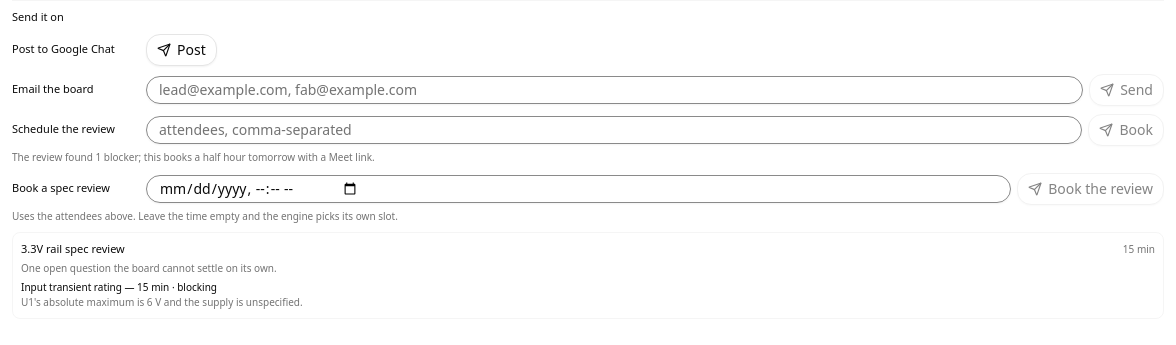
Test case: DeliverPanel spec review time › shows the engine's refusal of a bad time in the row, verbatim
Expected: the button with test id "deliver-chat" is enabled, [146, 34, 217, 66]
Step 1. Type "lead@example.com" into the field with test id "deliver-attendees" → (614,130), box [146, 116, 1082, 144]
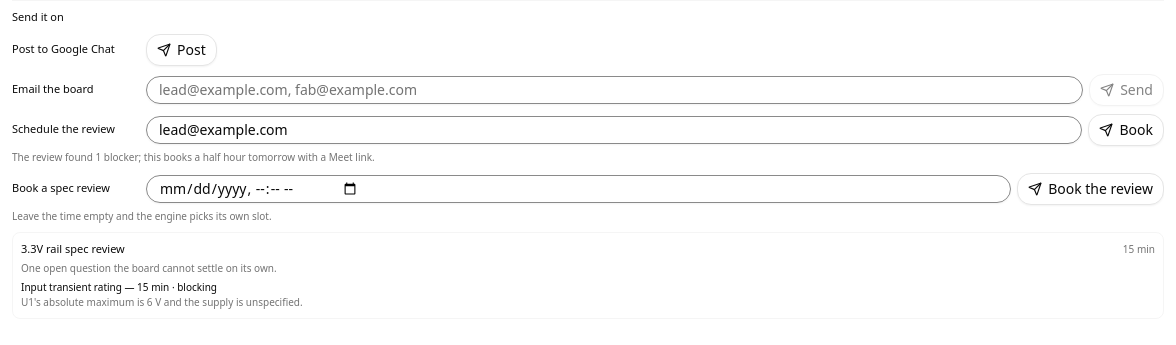
Step 2. Type "2020-01-01T09:00" into the field with test id "deliver-spec-review-when" → (579,188), box [146, 174, 1011, 202]
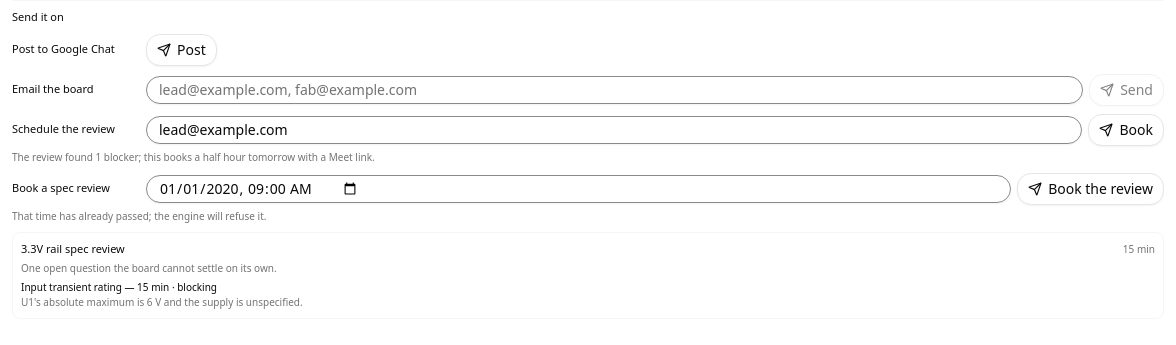
Now the button with test id "deliver-spec-review" is enabled
Now the text "That time has already passed; the engine will refuse it." is shown, box [12, 208, 266, 222]
Step 3. Click the button with test id "deliver-spec-review" → (1091,188), box [1017, 172, 1164, 204]
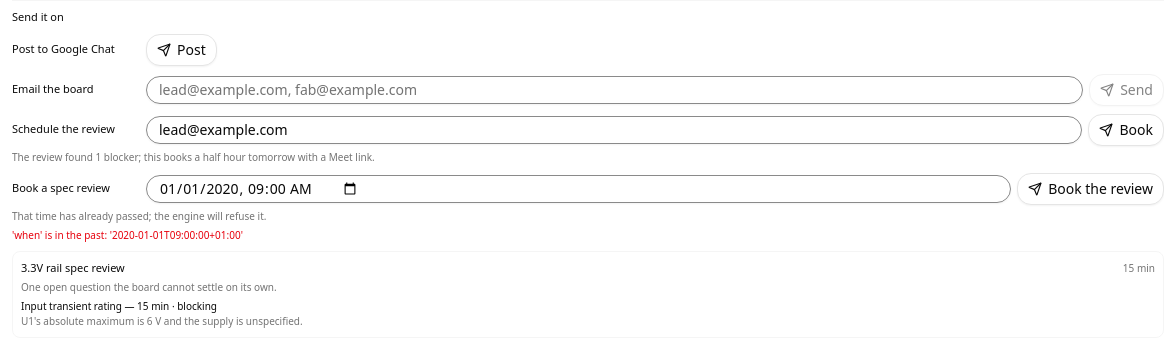
Now the text with test id "deliver-failure" reads "'when' is in the past: '2020-01-01T09:00:00+01:00'", box [12, 228, 243, 242]
